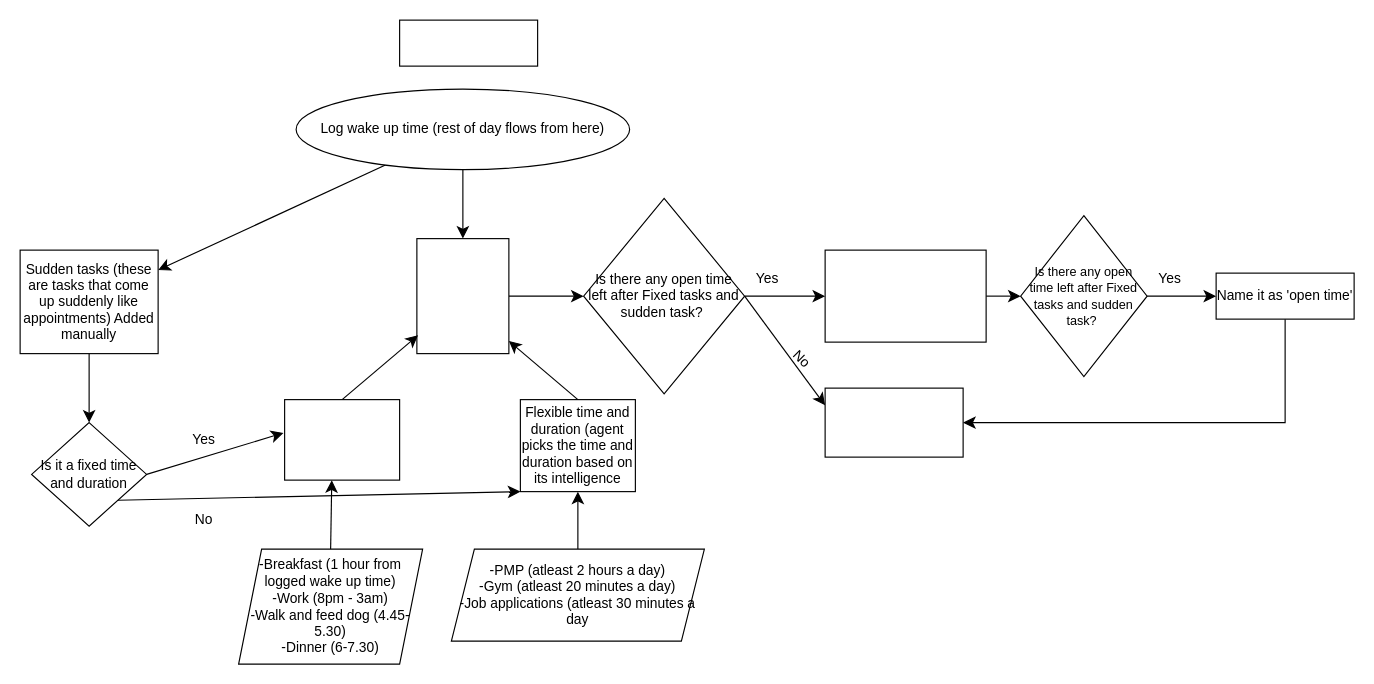
This 1374x684 diagram has some shape labels left out. Here are the shapes that lost their labels. From the top down, the centre of each, then its label:
the point at 468,42: Weekdays
the point at 462,295: Fixed tasks (these task have to be done everyday)
the point at 905,295: Non fixed tasks -Read -AI work -Qgis (agent picks one based on its intelligence)
the point at 341,439: Fixed time and duration (user picks the time and the duration
the point at 893,422: Deploy schedule
